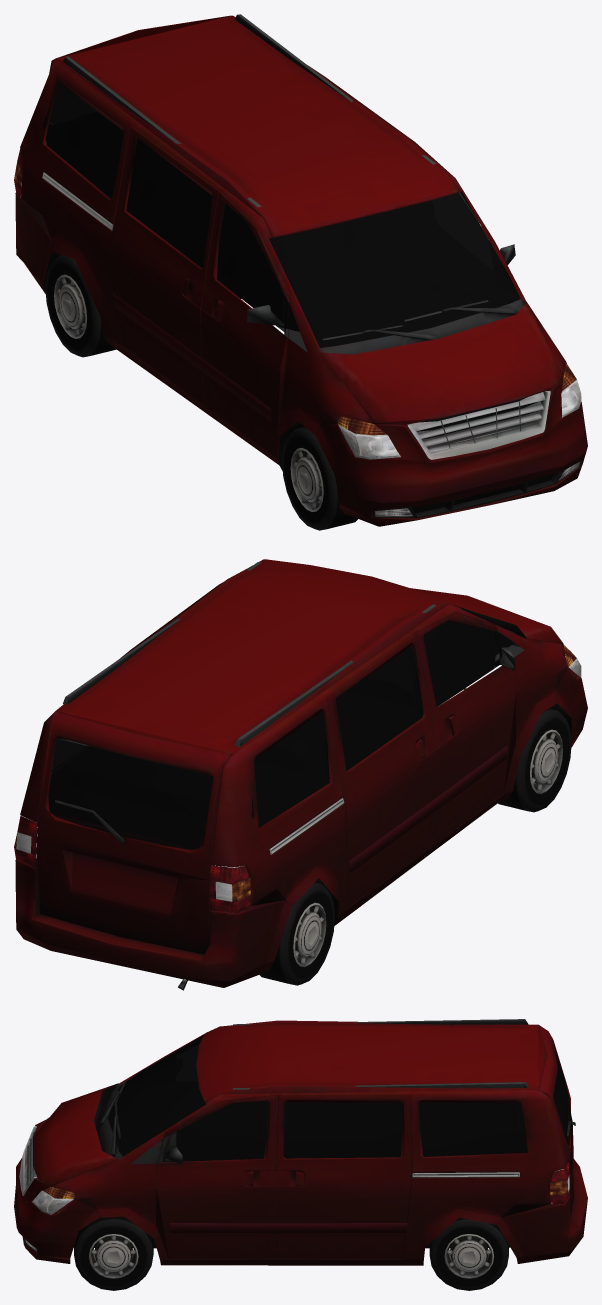
Rendered from minivan_lo.glb.
3 views of the same model, one above another, from view 1: azimuth 30°, elevation 25°; view 2: azimuth 150°, elevation 25°; view 3: azimuth 270°, elevation 25° (orthographic). The views are drawn at different scales.
Parts seen in each view (by area): view 1: body, wheel_fr, wheel_rr; view 2: body, wheel_rr, wheel_fr; view 3: body, wheel_fl, wheel_rl.
Boxes of the visible parts, x1,y1,x2,y2 form: body: [14, 14, 587, 526]; wheel_fr: [282, 426, 357, 530]; wheel_rr: [45, 255, 116, 357]; body: [14, 559, 587, 990]; wheel_rr: [259, 882, 334, 985]; wheel_fr: [498, 708, 571, 812]; body: [14, 1019, 587, 1265]; wheel_fl: [74, 1216, 153, 1290]; wheel_rl: [429, 1217, 508, 1290].
Bounding box in the file's own units: 1.98 × 1.86 × 4.87.
Materials: 4 (3 with a texture image).
